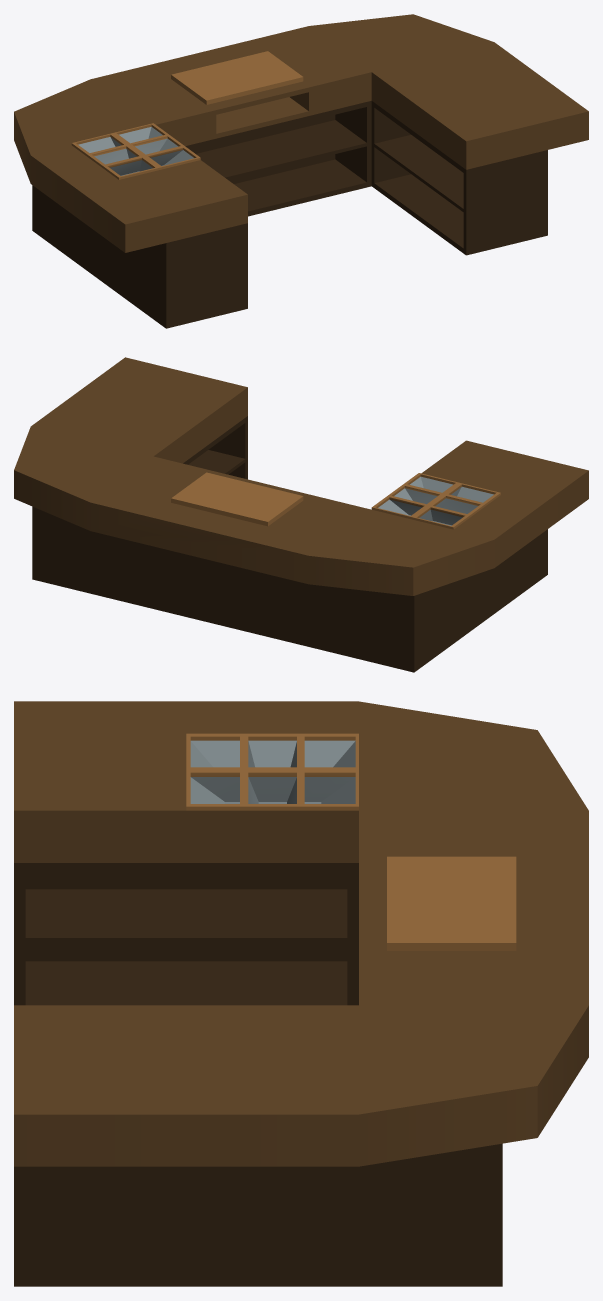
Rendered from Counter.fbx.
3 views of the same model, one above another, from view 1: azimuth 30°, elevation 25°; view 2: azimuth 150°, elevation 25°; view 3: azimuth 270°, elevation 25° (orthographic). The views are drawn at different scales.
Visible parts, largest first — view 1: Counter; view 2: Counter; view 3: Counter.
Boxes of the visible parts, x1,y1,x2,y2 form: Counter: (14,14,588,328); Counter: (14,357,588,672); Counter: (14,701,588,1286).
Size of the model in its own units: 34 by 8.31 by 20.
